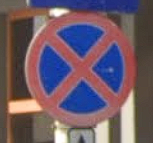oprirea_interzisa: (22, 9, 140, 127)
